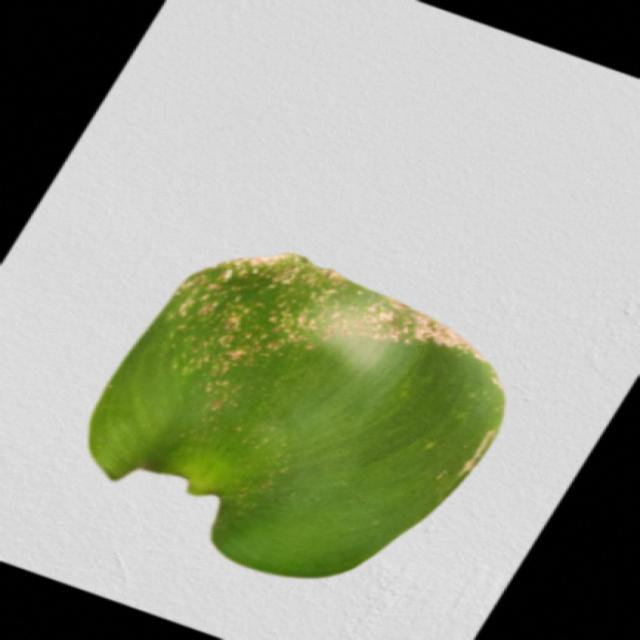daun berpenyakit bercak: (90, 255, 503, 576)
